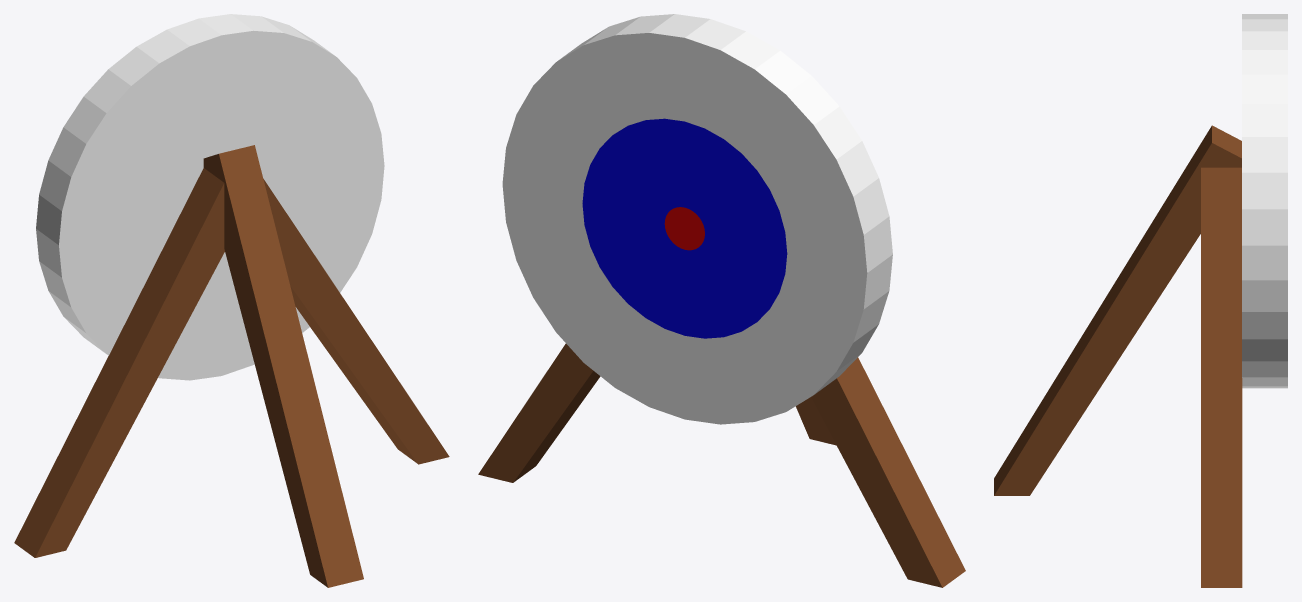
The model's file is target.fbx.
The picture shows the model from 3 angles, left to right: view 1: azimuth 30°, elevation 25°; view 2: azimuth 150°, elevation 25°; view 3: azimuth 270°, elevation 25°; orthographic projection. The views are drawn at different scales.
Parts seen in each view (by area): view 1: FullTarget; view 2: FullTarget; view 3: FullTarget.
Part boxes in pixels (bbox=[...]): FullTarget: bbox=[14, 14, 449, 587]; FullTarget: bbox=[478, 14, 965, 587]; FullTarget: bbox=[994, 14, 1287, 587].
Bounding box in the file's own units: 2304 × 2427 × 1418.
